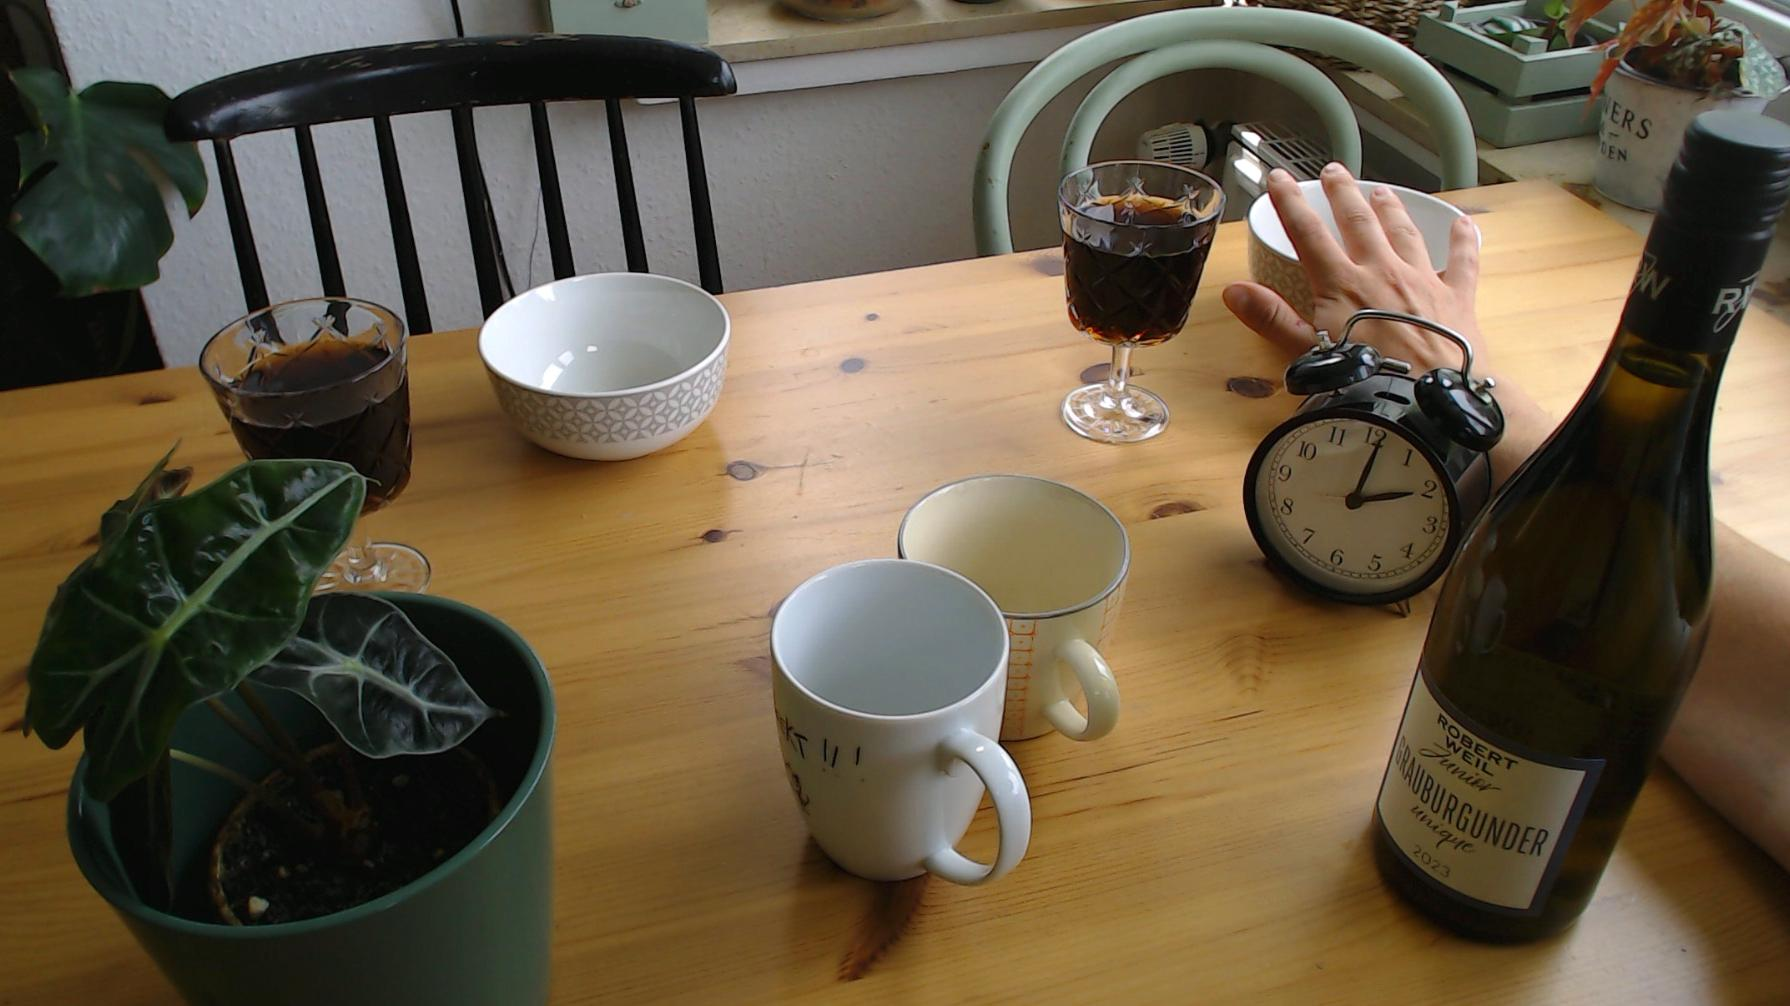bottle: (1370, 102, 1790, 941)
bowl_close: (476, 271, 731, 462)
bowl_far: (1252, 182, 1478, 331)
clock: (1247, 413, 1459, 599)
cup_close: (768, 557, 1031, 888)
cup_far: (897, 473, 1131, 745)
hand_far: (1223, 164, 1473, 362)
potted_plant: (25, 459, 558, 1006)
wineglass_close: (200, 294, 425, 589)
wineglass_far: (1057, 159, 1226, 443)
